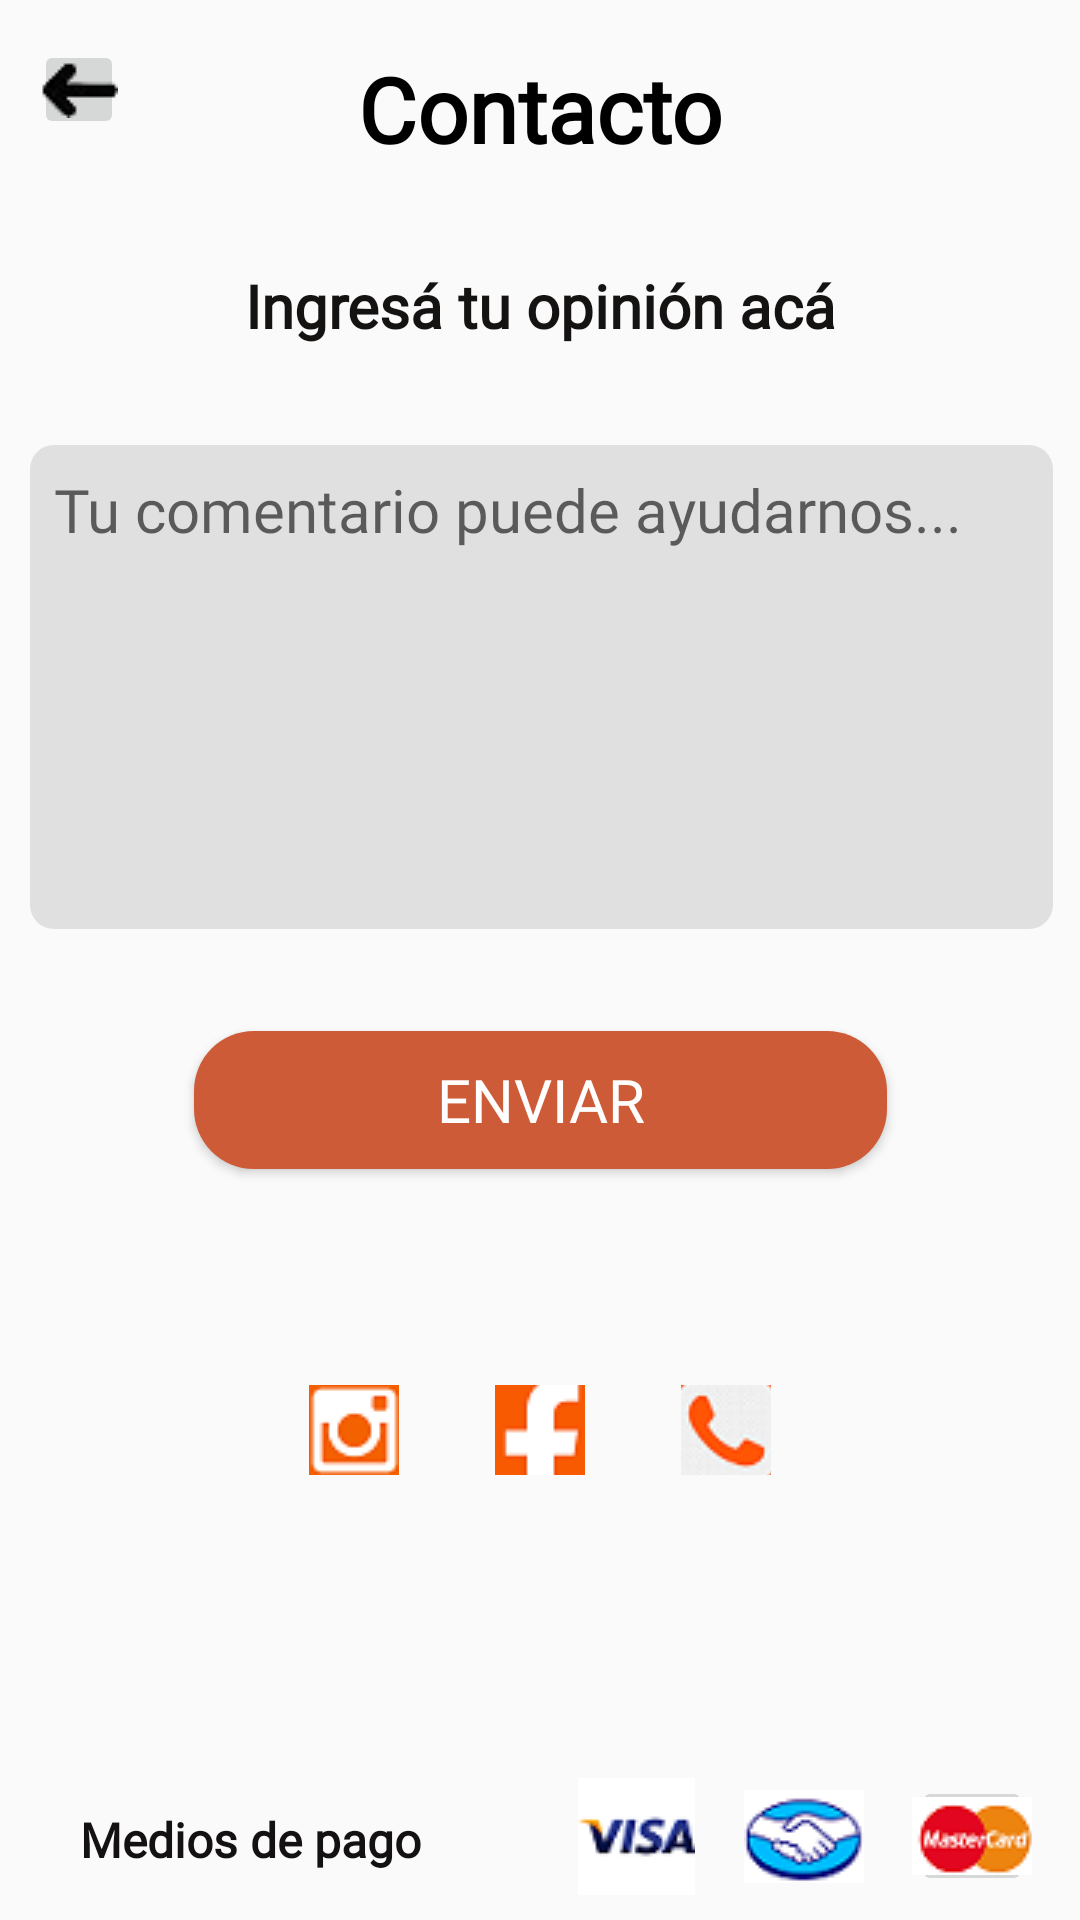

Icons on this 1080 x 1920 Android screen, each with its box as (x1, y1, x2, y2):
Volver a la pantalla anterior: (42, 58, 118, 121)
